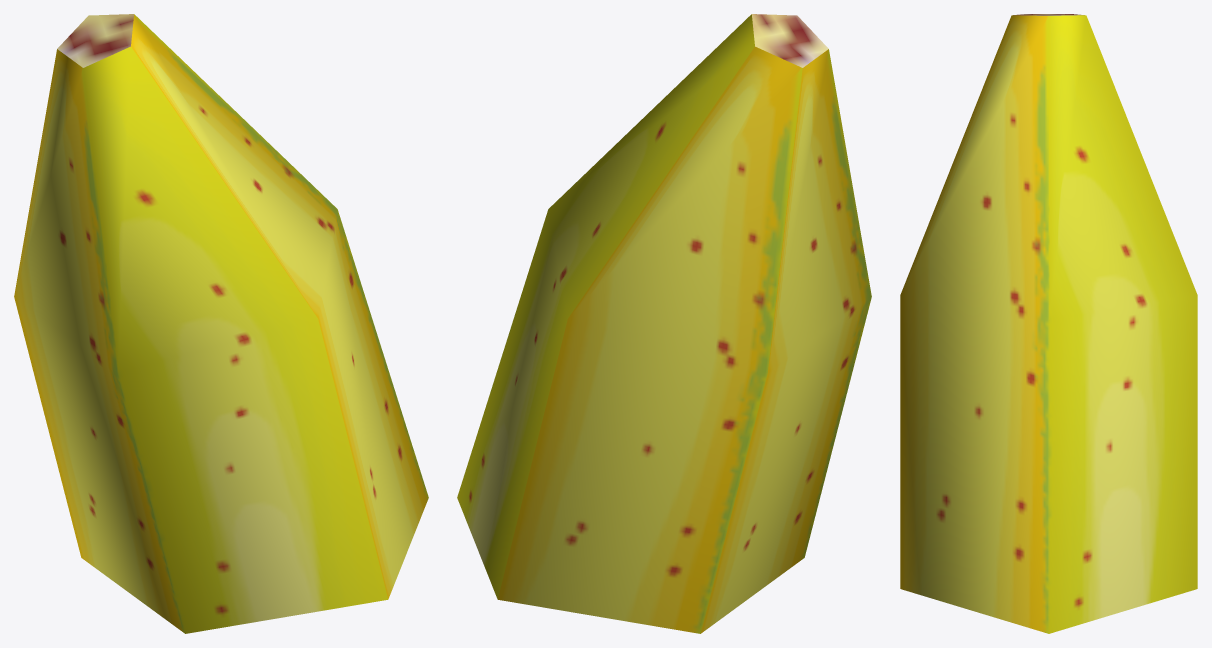
The model's file is BanS2.FBX.
3 renders of one model, left to right at view 1: azimuth 30°, elevation 25°; view 2: azimuth 150°, elevation 25°; view 3: azimuth 270°, elevation 25°, orthographic. The views are drawn at different scales.
Parts seen in each view (by area): view 1: Banana Slice; view 2: Banana Slice; view 3: Banana Slice.
Part boxes in pixels (box(x1,y1,x2,y2)): Banana Slice: box(14, 14, 428, 633); Banana Slice: box(457, 14, 871, 633); Banana Slice: box(900, 14, 1197, 633).
Bounding box in the file's own units: 7.8 × 11.94 × 6.27.
